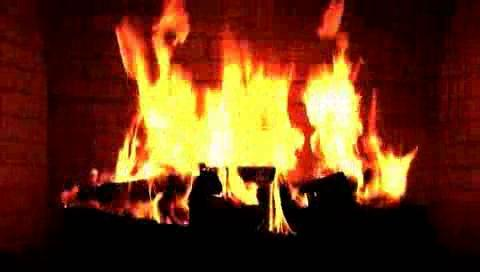fire: (114, 12, 407, 223)
